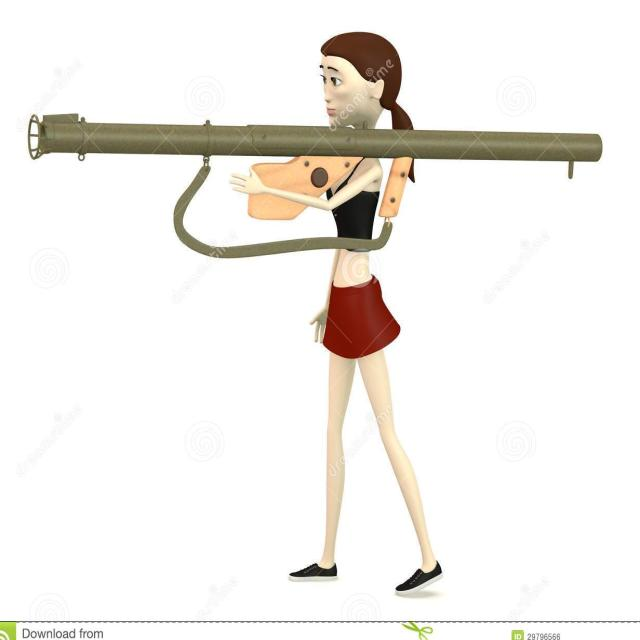Weapon: (37, 115, 602, 162)
